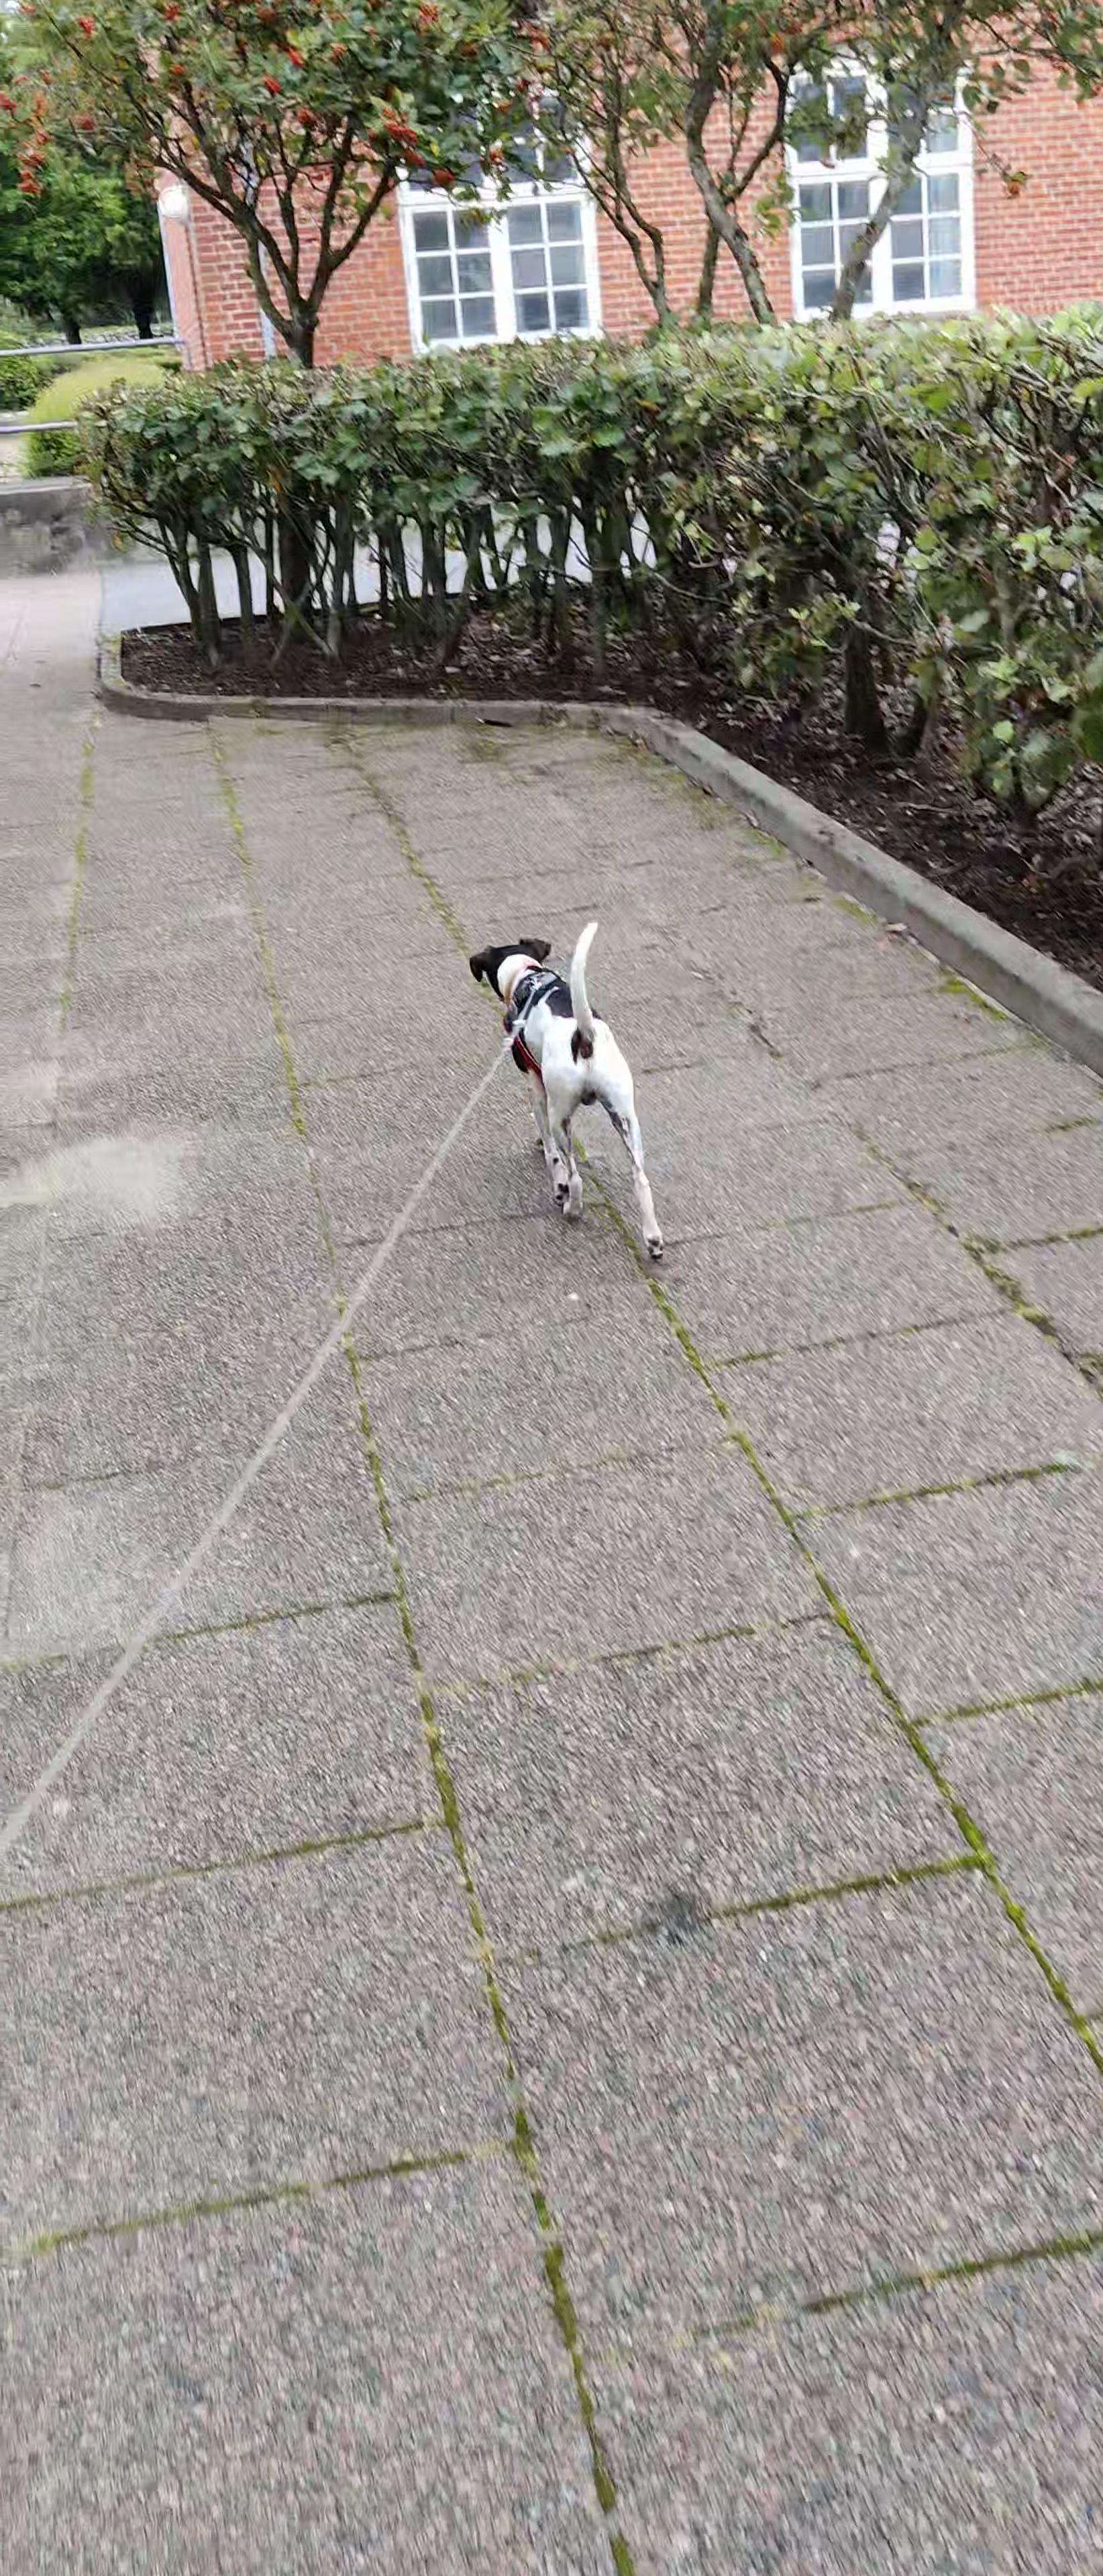Dog: (462, 915, 664, 1258)
